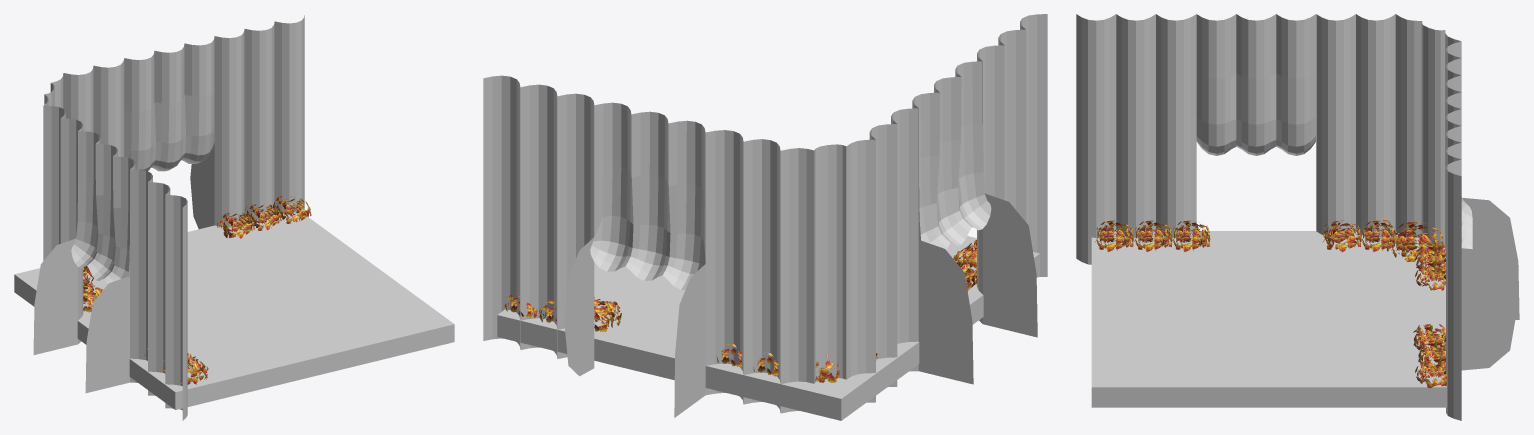
The model's file is HuntersBounty_Room_01.fbx.
3 renders of one model, left to right at view 1: azimuth 30°, elevation 25°; view 2: azimuth 150°, elevation 25°; view 3: azimuth 270°, elevation 25°, orthographic. The views are drawn at different scales.
Parts seen in each view (by area): view 1: Walls, Ground_01, Bushes; view 2: Walls, Ground_01, Bushes; view 3: Walls, Ground_01, Bushes.
Boxes of the visible parts, x1,y1,x2,y2 form: Walls: [33, 15, 304, 420]; Ground_01: [14, 212, 454, 409]; Bushes: [83, 196, 311, 384]; Walls: [483, 14, 1047, 417]; Ground_01: [497, 236, 1039, 420]; Bushes: [504, 240, 977, 382]; Walls: [1076, 14, 1519, 420]; Ground_01: [1091, 231, 1446, 407]; Bushes: [1095, 218, 1446, 388].
Size of the model in its own units: 2340 by 1426 by 2341.
